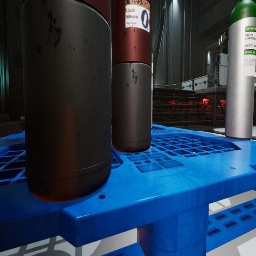0: (224, 0, 256, 140), (151, 44, 153, 130), (21, 116, 25, 121)
NitrogenTank ,: (21, 0, 112, 203), (111, 0, 152, 153)
SafetySwitchPanel ,: (111, 74, 112, 76)
